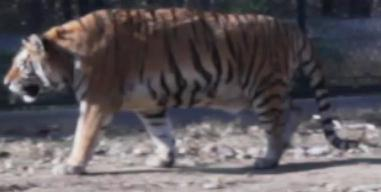tiger: (4, 7, 332, 173)
